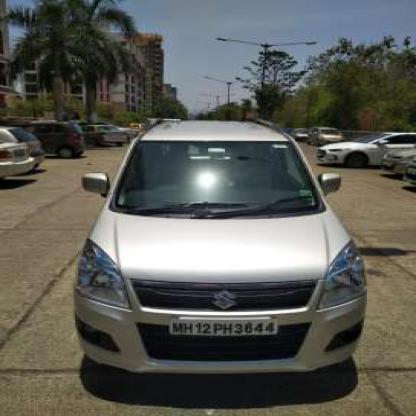license: (166, 315, 280, 338)
